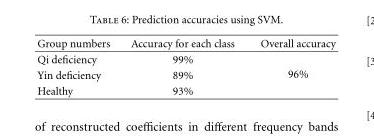table: (36, 36, 334, 96)
table column: (119, 36, 246, 96), (246, 36, 334, 96), (36, 36, 119, 96)
table column header: (36, 36, 334, 51)
table row: (36, 51, 334, 67), (36, 36, 334, 51), (36, 67, 334, 82), (36, 82, 334, 96)
table spanning cell: (246, 51, 334, 96)
